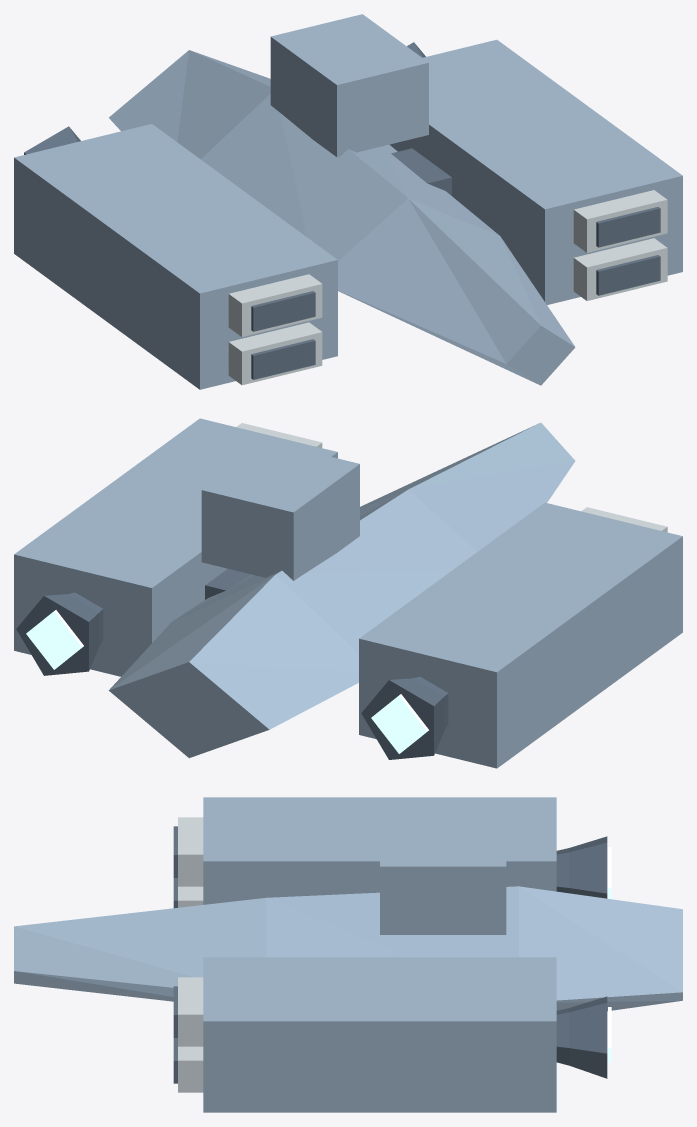
3 renders of one model, top to bottom at view 1: azimuth 30°, elevation 25°; view 2: azimuth 150°, elevation 25°; view 3: azimuth 270°, elevation 25°, orthographic. The views are drawn at different scales.
Bounding box in the file's own units: 8.4 × 3.4 × 10.6.
